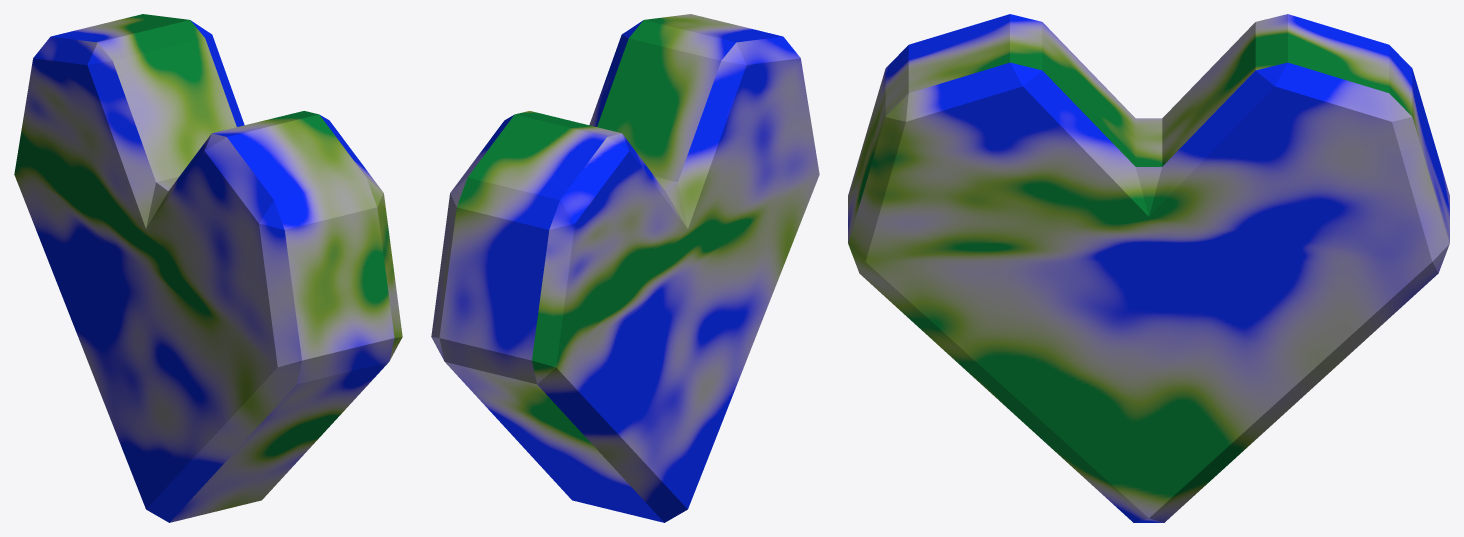
The model's file is likebutton.glb.
3 views of the same model, side by side, from view 1: azimuth 30°, elevation 25°; view 2: azimuth 150°, elevation 25°; view 3: azimuth 270°, elevation 25° (orthographic). The views are drawn at different scales.
Parts seen in each view (by area): view 1: Circle; view 2: Circle; view 3: Circle.
Part boxes in pixels (<box>): Circle: <box>14,14,402,522</box>; Circle: <box>431,14,819,522</box>; Circle: <box>848,14,1449,522</box>.
Bounding box in the file's own units: 0.458 × 1.5 × 1.78.
1 material, 1 textured.
